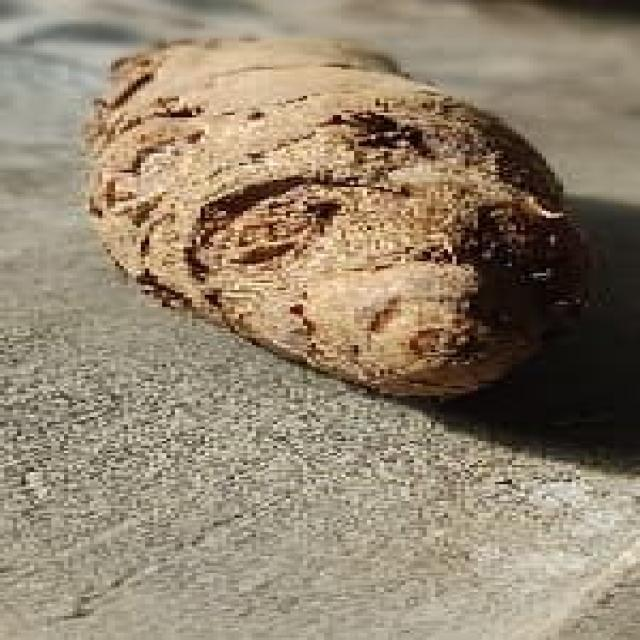ginger: (104, 24, 586, 393)
